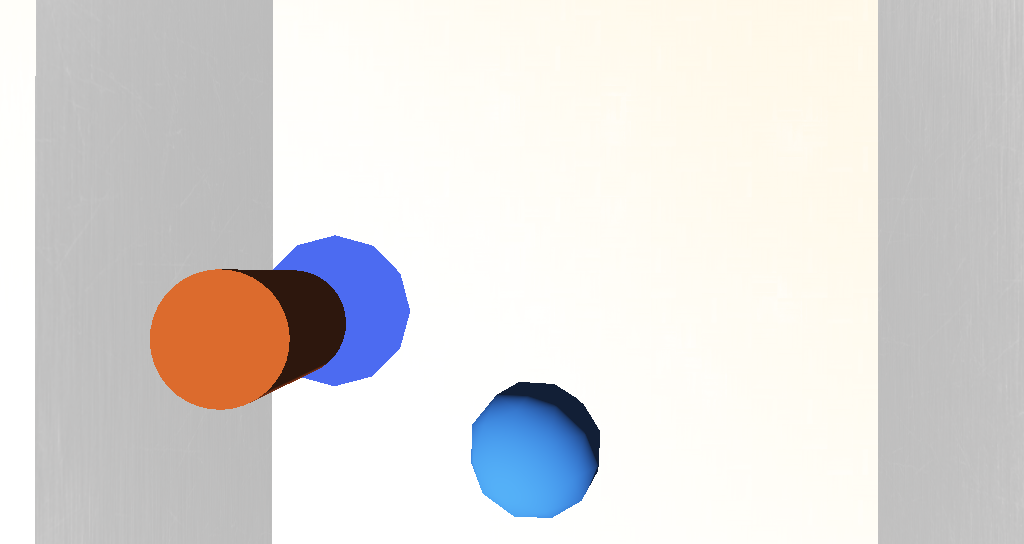cone: (330, 267, 397, 305)
cylinder: (364, 260, 431, 303)
sphere: (455, 308, 515, 351)
